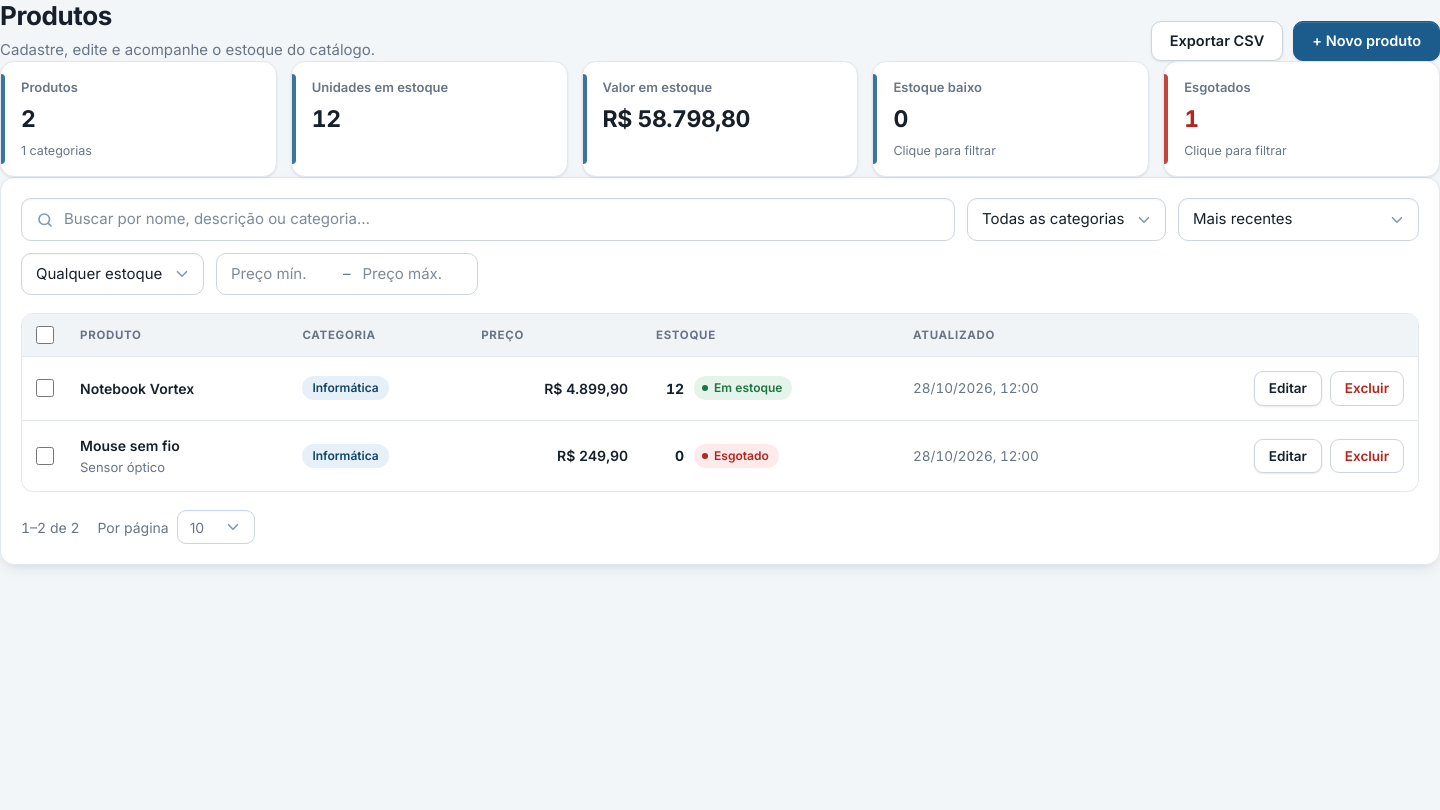
Scenario: ProductList › se a exclusão falhar, o erro aparece no diálogo e o produto continua
The image size is (1440, 810).
Expected: the text "Notebook Vortex" is shown, left=80, top=380, right=194, bottom=397
Click the button with aria-label "Excluir Notebook Vortex" at (1367, 388), box left=1330, top=371, right=1404, bottom=406
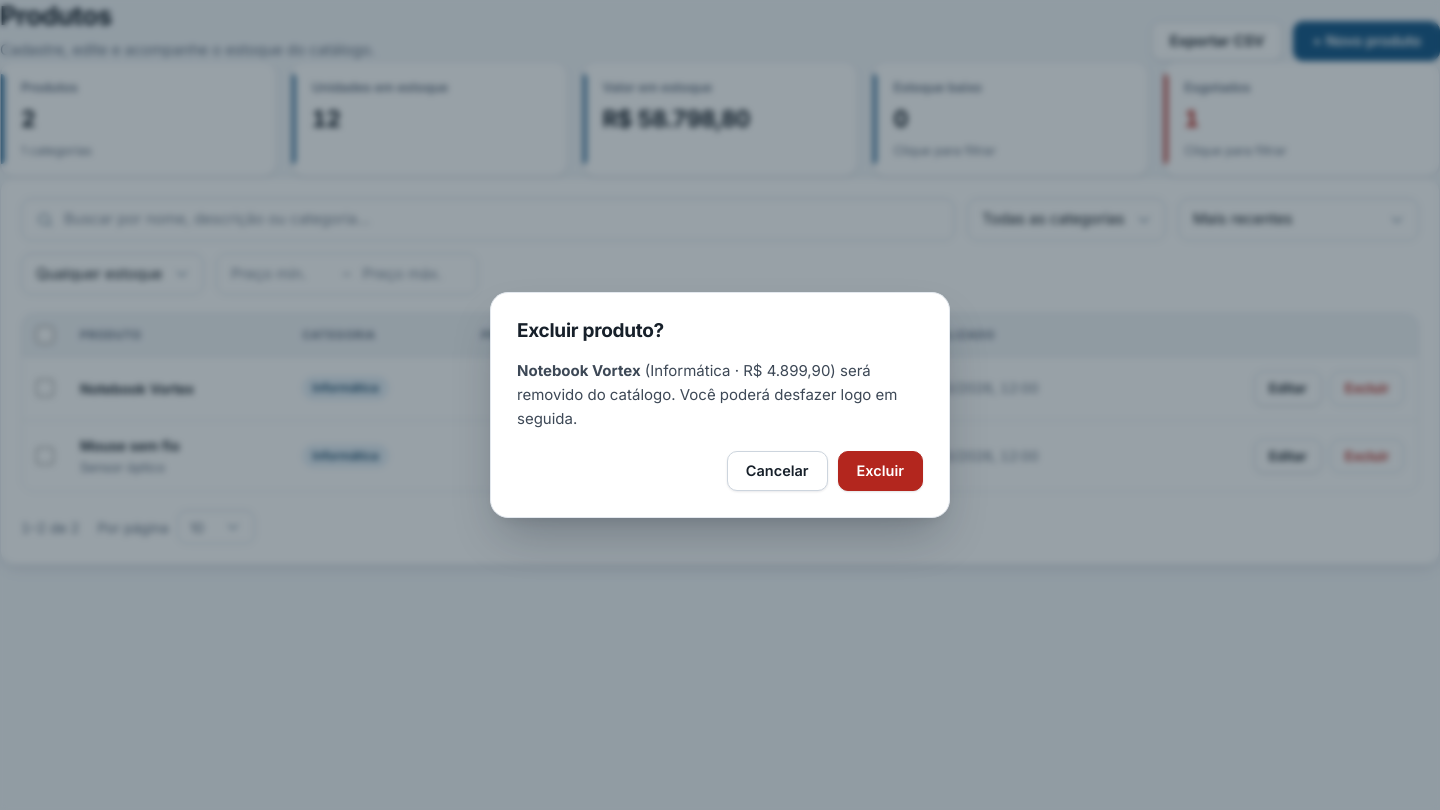
Click the button "Excluir" at (880, 471), box left=838, top=451, right=923, bottom=491
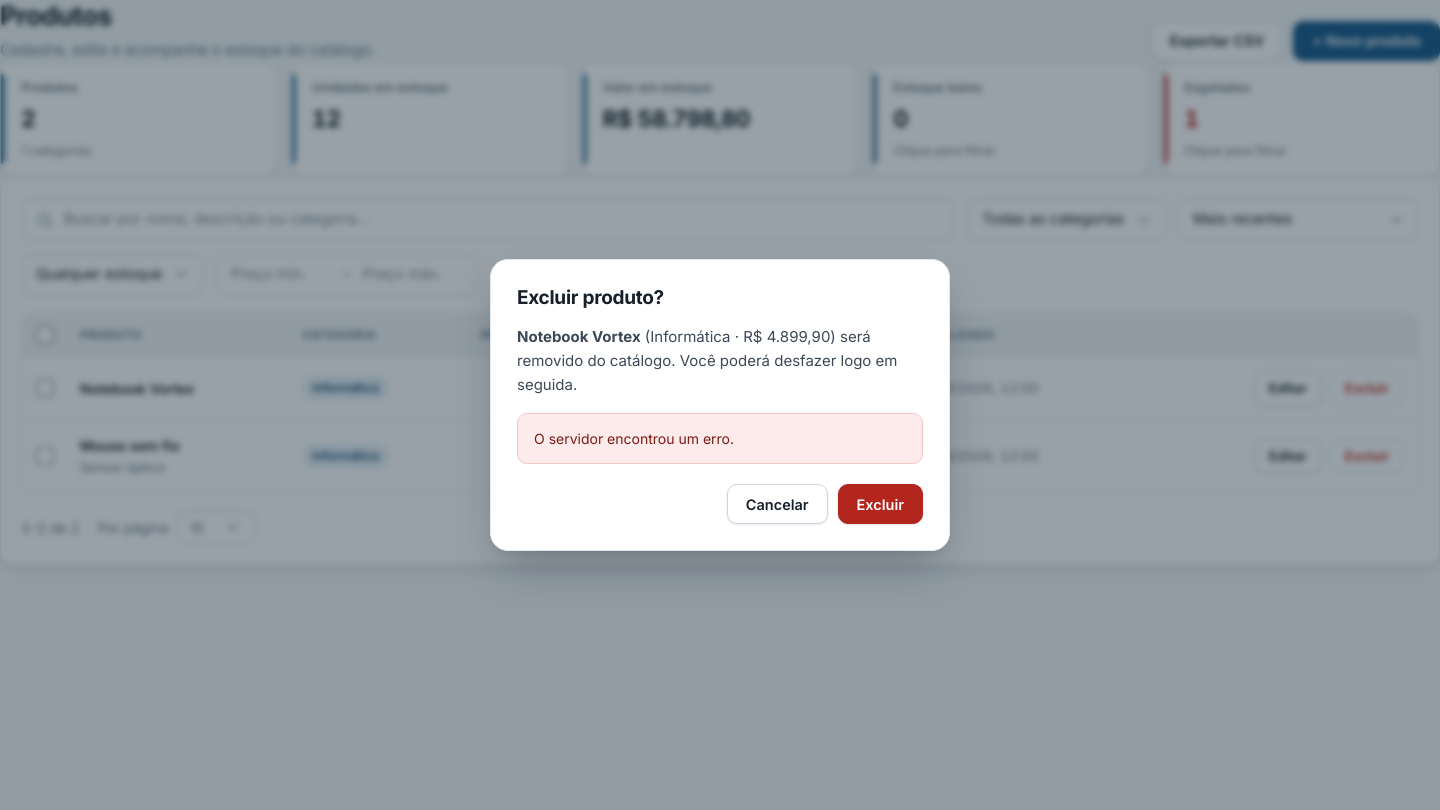
Expected: the text "Notebook Vortex" below "Preço" is shown, left=80, top=380, right=194, bottom=397
Now the message reads "O servidor encontrou um erro.", box left=534, top=430, right=734, bottom=447
